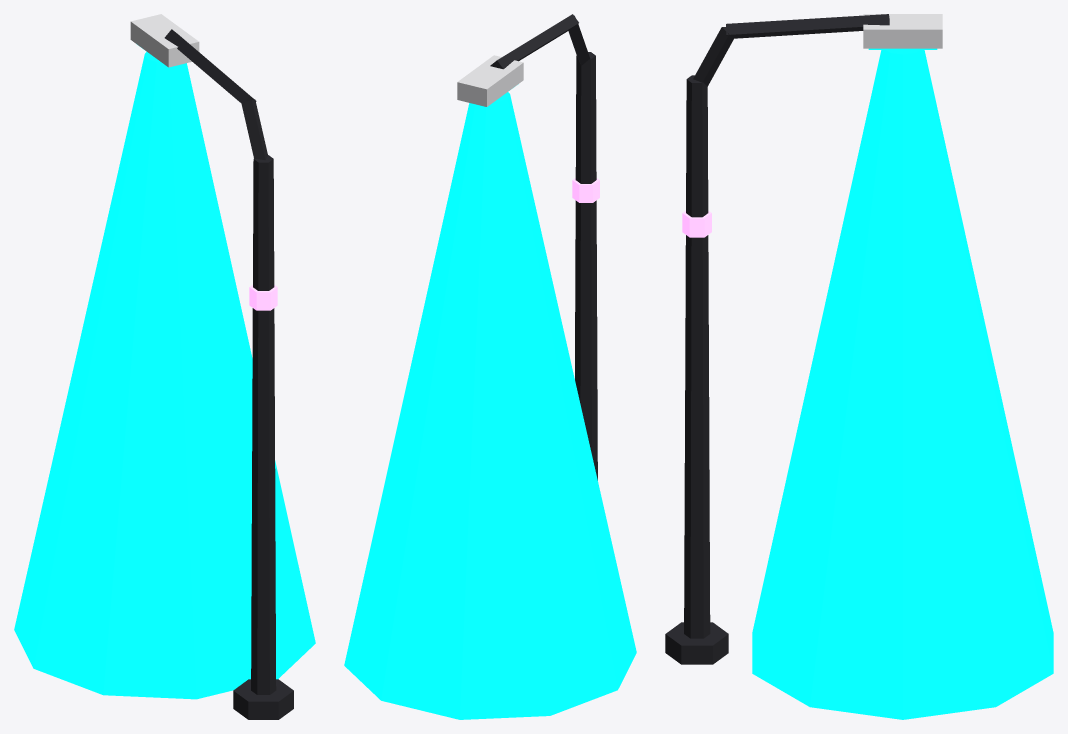
The model's file is Prop_StreetlightA.fbx.
3 renders of one model, left to right at view 1: azimuth 30°, elevation 25°; view 2: azimuth 150°, elevation 25°; view 3: azimuth 270°, elevation 25°, orthographic. The views are drawn at different scales.
Parts seen in each view (by area): view 1: SLA_LightCone, SLA_Pole, SLA_Arm, SLA_Head, SLA_Base, SLA_Band; view 2: SLA_LightCone, SLA_Pole, SLA_Head, SLA_Arm, SLA_Band; view 3: SLA_LightCone, SLA_Pole, SLA_Arm, SLA_Head, SLA_Base, SLA_Band.
Part boxes in pixels (x1,y1,x2,y2): SLA_LightCone: (14,52,315,699); SLA_Pole: (251,155,276,694); SLA_Arm: (164,29,267,160); SLA_Head: (130,14,199,67); SLA_Base: (233,679,293,719); SLA_Band: (249,285,277,310); SLA_LightCone: (344,92,636,719); SLA_Pole: (575,52,597,480); SLA_Head: (457,55,523,106); SLA_Arm: (490,14,590,69); SLA_Band: (572,178,599,202); SLA_LightCone: (752,50,1053,719); SLA_Pole: (684,75,710,638); SLA_Arm: (693,14,889,86); SLA_Head: (863,14,942,48); SLA_Base: (665,622,728,664); SLA_Band: (682,210,711,237).
Bounding box in the file's own units: 0.6 × 1.34 × 0.7353.
